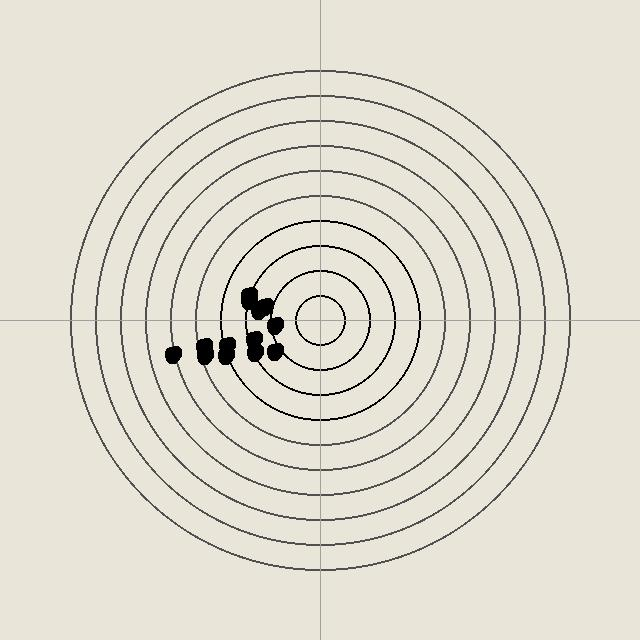good_group: (243, 329, 263, 349), (238, 290, 258, 310), (216, 335, 236, 355), (194, 345, 214, 365), (264, 315, 284, 335), (238, 285, 258, 305), (193, 336, 213, 356), (244, 342, 264, 362), (215, 345, 235, 365), (264, 341, 284, 361), (254, 296, 274, 316), (162, 344, 182, 364), (248, 300, 268, 320)
